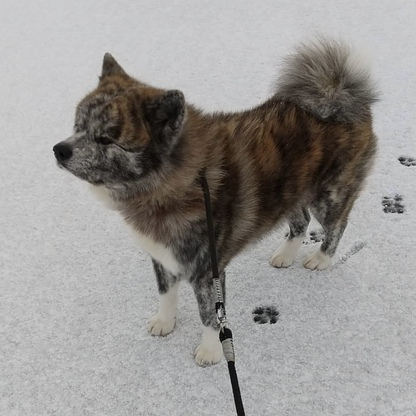akita: (43, 25, 385, 371)
